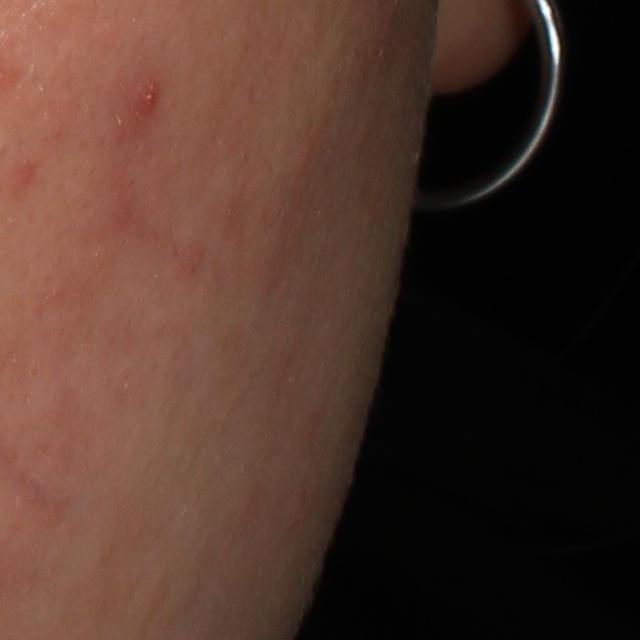papule: (137, 77, 160, 120)
